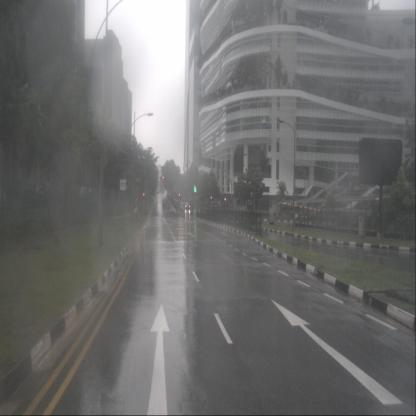vehicle-car: (185, 202, 190, 209)
